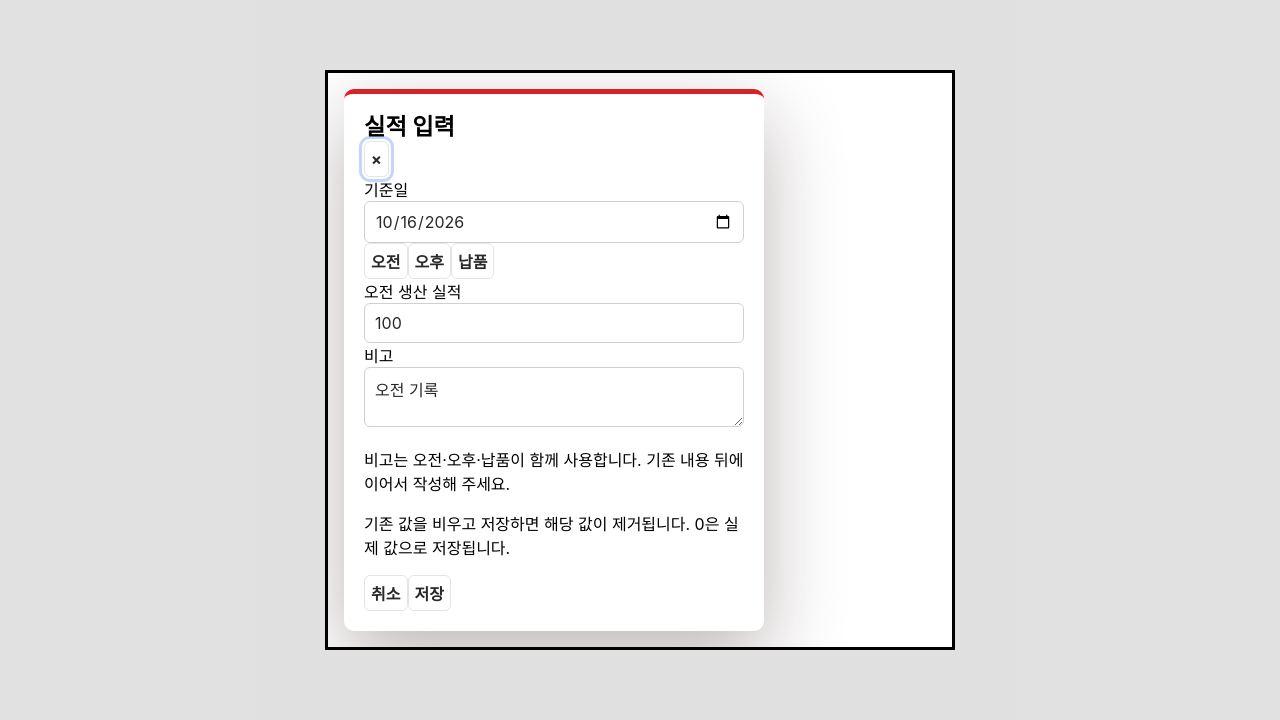
preserves drafts when another user has saved first
The width and height of the screenshot is (1280, 720).
Step 1. Replace the text in the number field labelled "오전 생산 실적" with "111" → point(554, 323), box [364, 303, 744, 343]
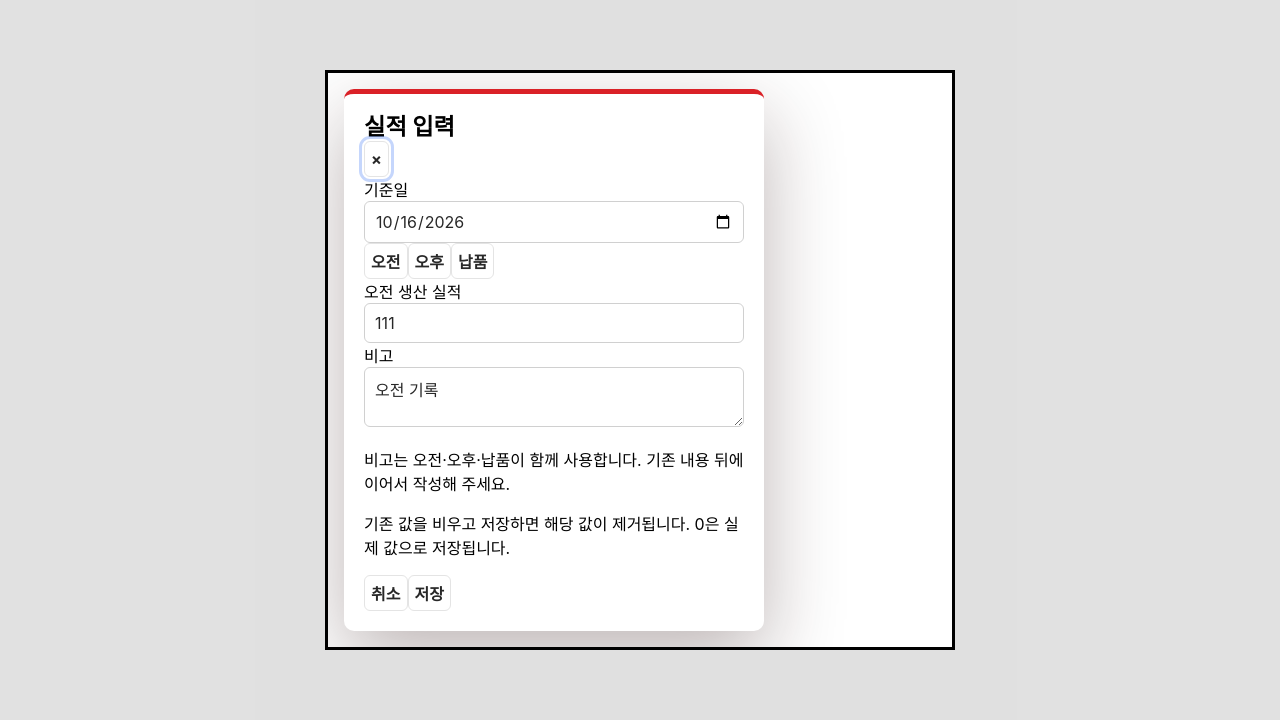
Step 2. Click the button "저장" → point(429, 593), box [408, 575, 451, 611]
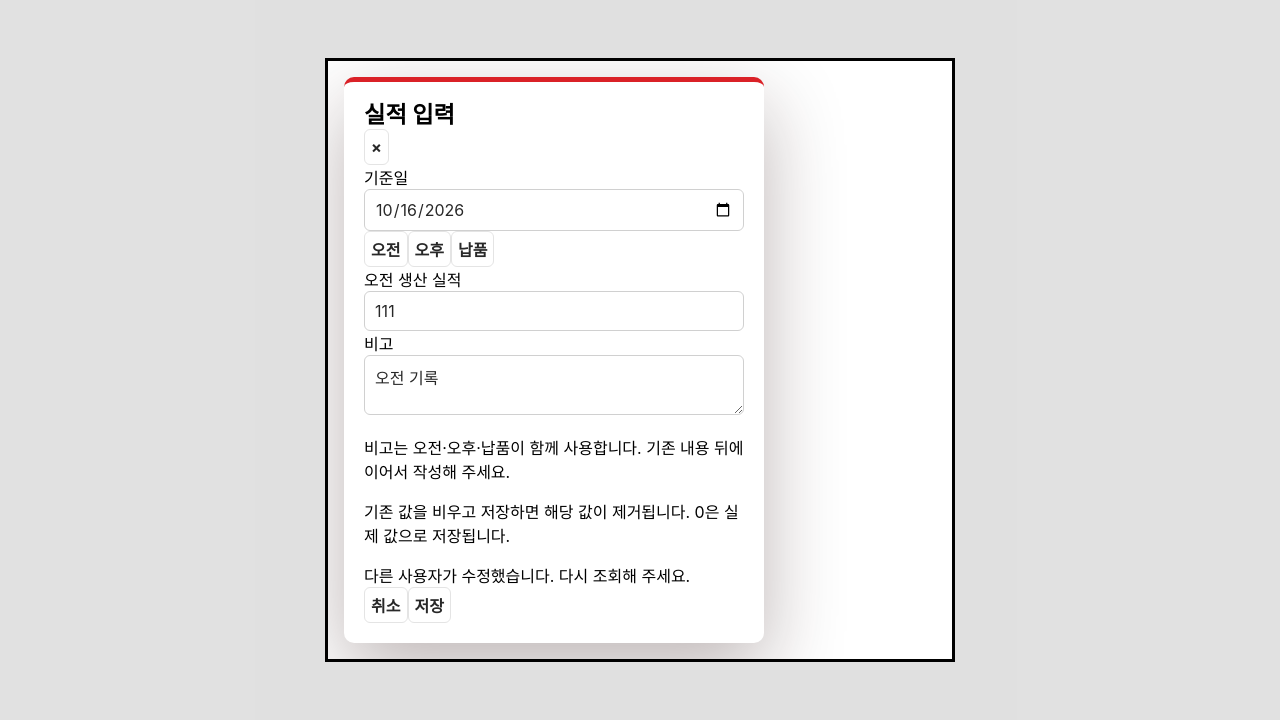
Now the message shows "다른 사용자가 수정", box [364, 566, 690, 586]
